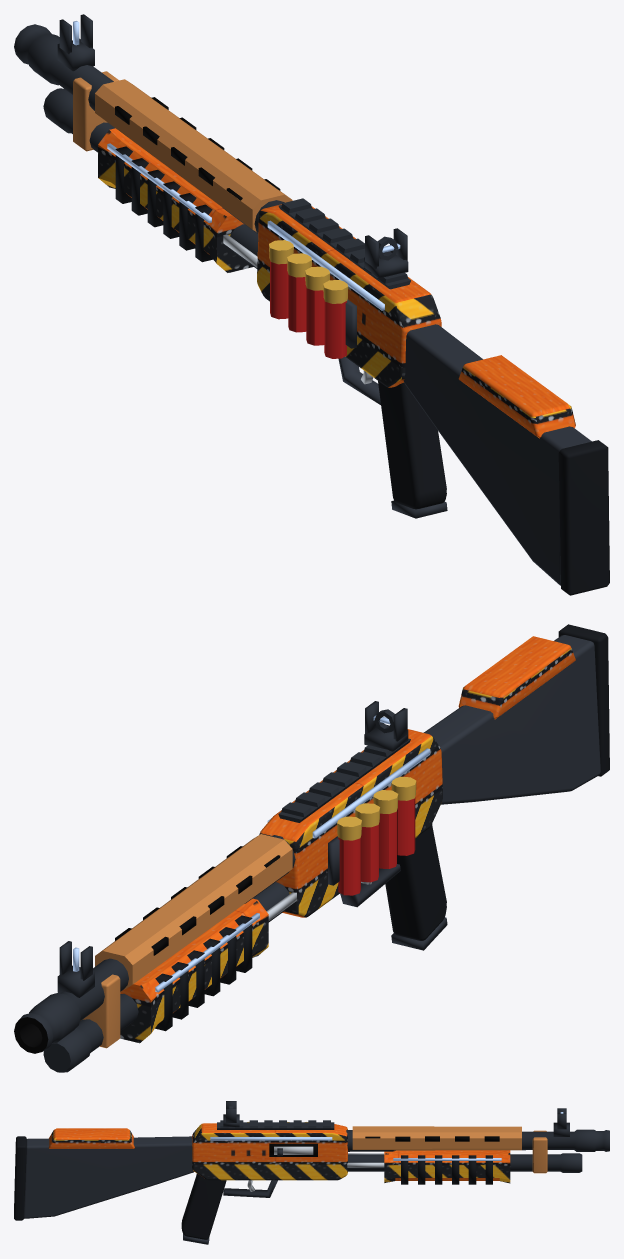
File: weapon_breaker_12g.glb
3 renders of one model, top to bottom at view 1: azimuth 30°, elevation 25°; view 2: azimuth 150°, elevation 25°; view 3: azimuth 270°, elevation 25°, orthographic. The views are drawn at different scales.
Visible parts, largest first — view 1: Breaker12G; view 2: Breaker12G; view 3: Breaker12G.
Boxes of the visible parts, x1=… form: Breaker12G: x1=14, y1=14, x2=609, y2=595; Breaker12G: x1=14, y1=624, x2=609, y2=1072; Breaker12G: x1=14, y1=1101, x2=609, y2=1244.
Size of the model in its own units: 0.0737 by 0.2206 by 0.8799.
10 materials, 1 textured.
